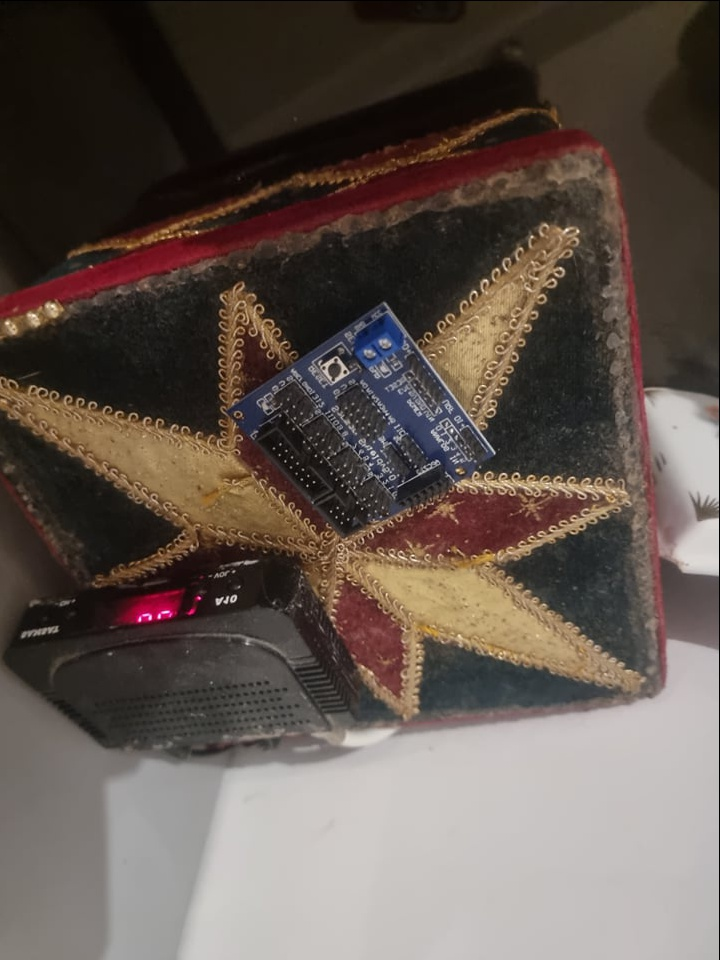5V EXPANSION: (228, 299, 497, 533)
